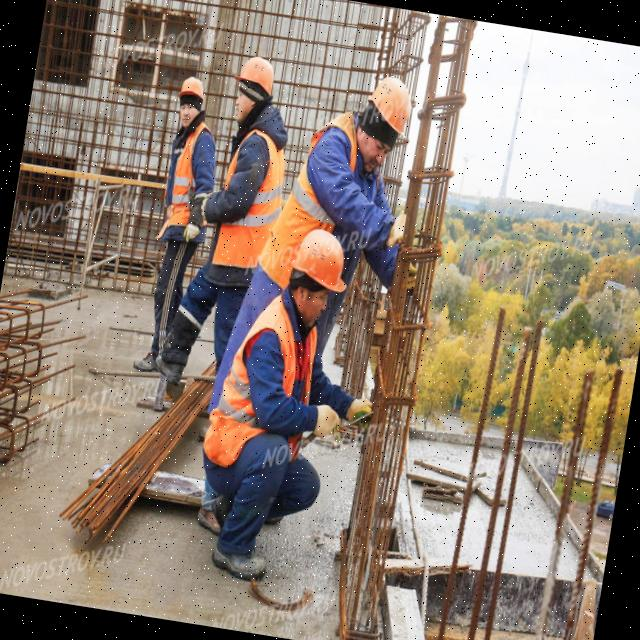Helmet: (290, 228, 358, 294), (363, 74, 418, 140), (231, 54, 280, 98), (178, 78, 209, 102)
Jacket: (220, 307, 323, 480), (211, 116, 289, 273), (295, 117, 356, 235), (165, 120, 214, 244)
